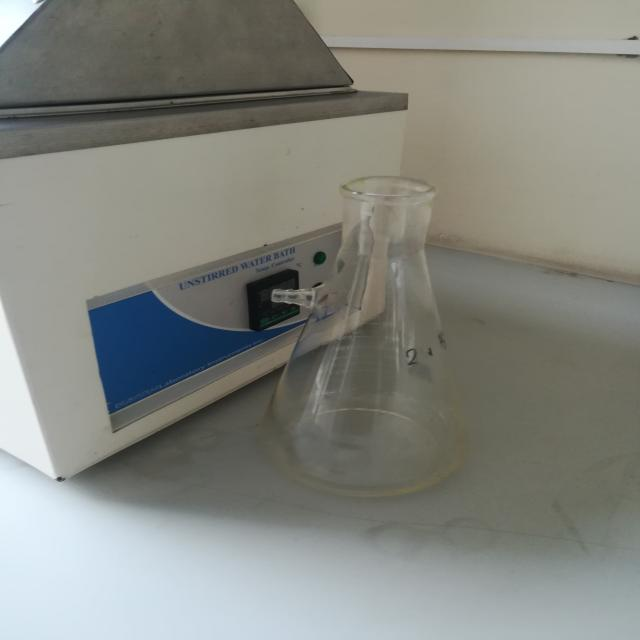Conical_Flask: (237, 142, 528, 528)
